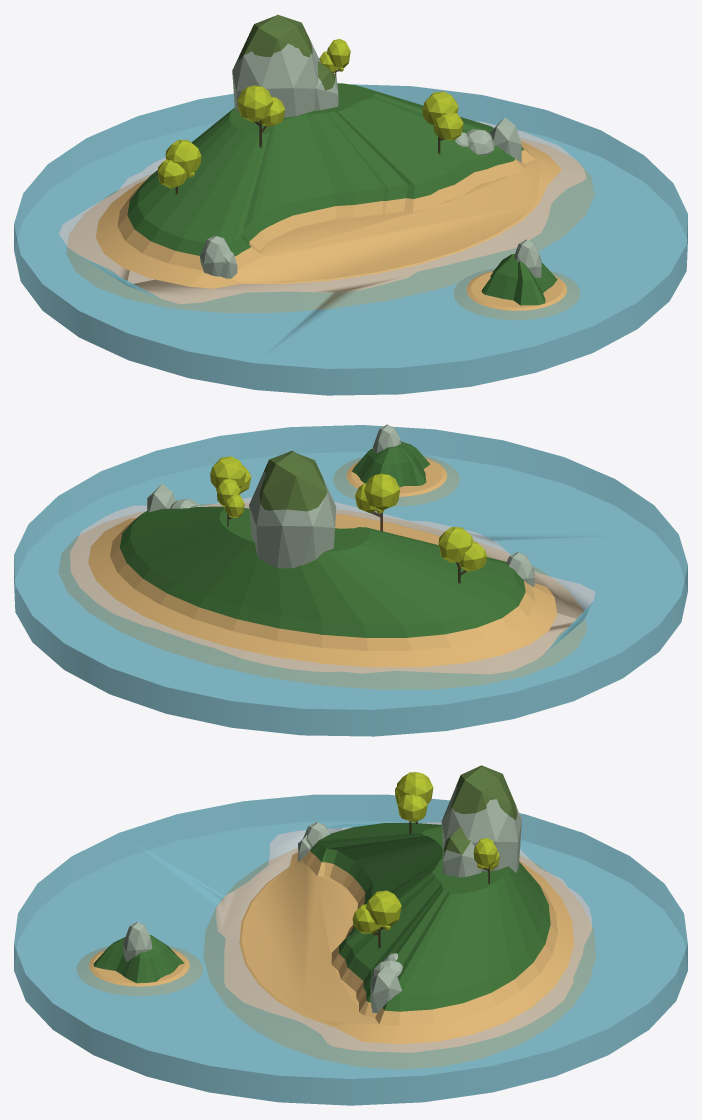
The model's file is island3.glb.
The picture shows the model from 3 angles, top to bottom: view 1: azimuth 30°, elevation 25°; view 2: azimuth 150°, elevation 25°; view 3: azimuth 270°, elevation 25°; orthographic projection.
Parts seen in each view (by area): view 1: node-0_primitive0, node-0_primitive2, node-0_primitive3, node-0_primitive1, node-0_primitive4, node-0_primitive6, node-0_primitive5; view 2: node-0_primitive0, node-0_primitive2, node-0_primitive3, node-0_primitive1, node-0_primitive4, node-0_primitive6, node-0_primitive5; view 3: node-0_primitive0, node-0_primitive2, node-0_primitive3, node-0_primitive1, node-0_primitive4, node-0_primitive6, node-0_primitive5.
Part boxes in pixels (x1,y1,x2,y2): node-0_primitive0: [14, 84, 687, 395]; node-0_primitive2: [66, 137, 594, 319]; node-0_primitive3: [127, 83, 557, 305]; node-0_primitive1: [59, 121, 586, 304]; node-0_primitive4: [200, 42, 541, 278]; node-0_primitive6: [157, 39, 463, 188]; node-0_primitive5: [238, 14, 335, 90]; node-0_primitive0: [14, 425, 687, 736]; node-0_primitive2: [58, 455, 586, 689]; node-0_primitive3: [120, 441, 525, 637]; node-0_primitive1: [70, 497, 595, 674]; node-0_primitive4: [147, 424, 534, 586]; node-0_primitive6: [210, 456, 486, 571]; node-0_primitive5: [259, 451, 327, 511]; node-0_primitive0: [14, 794, 687, 1105]; node-0_primitive2: [76, 847, 595, 1069]; node-0_primitive3: [93, 823, 550, 1011]; node-0_primitive1: [216, 822, 591, 1052]; node-0_primitive4: [123, 785, 521, 1012]; node-0_primitive6: [352, 772, 499, 933]; node-0_primitive5: [444, 765, 517, 854].
Bounding box in the file's own units: 119 × 37.54 × 119.
